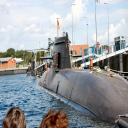submarine: (39, 11, 128, 126)
